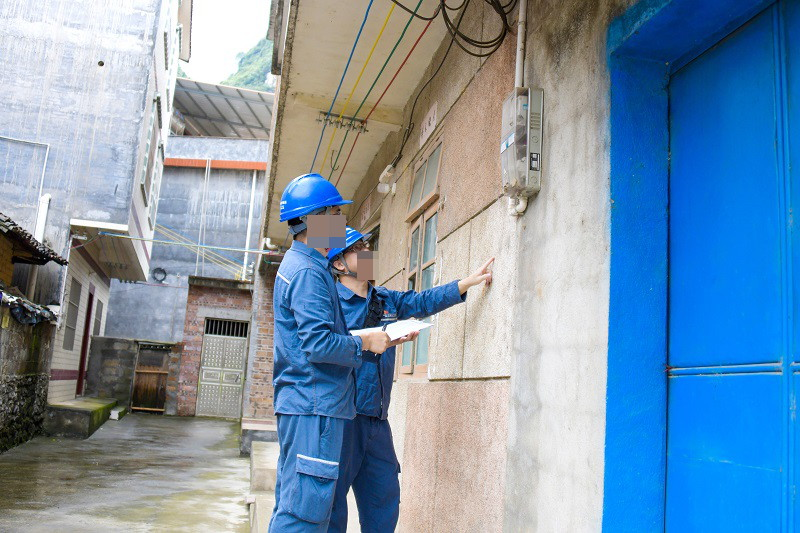downsuit: (266, 425, 342, 532), (334, 414, 400, 531)
halt: (279, 173, 351, 247)
hand: (457, 256, 496, 288), (363, 329, 393, 352)
inear: (299, 207, 339, 244), (328, 248, 353, 276)
person: (328, 228, 493, 532), (265, 170, 351, 533)
upsuit: (338, 277, 467, 411), (268, 239, 355, 413)
